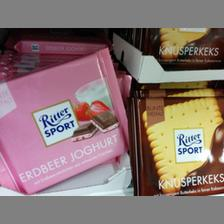Schokolade: (0, 51, 124, 193), (130, 96, 222, 196)
